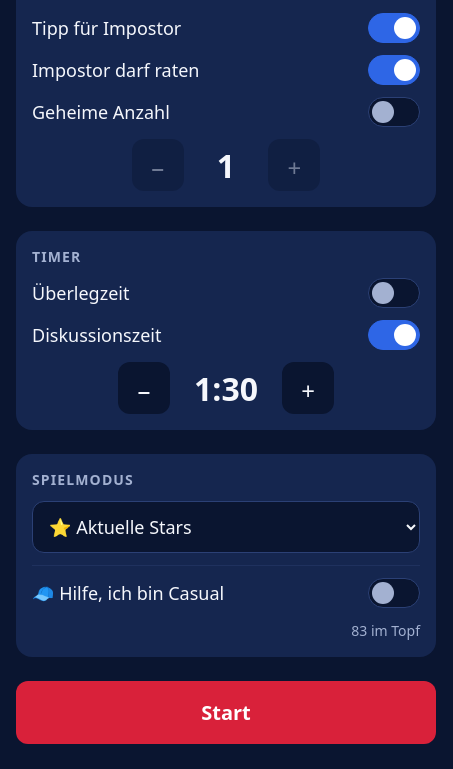
Test: SetupScreen › springt bei einem krummen gespeicherten Wert auf die nächste Stufe
(page scrolled)
Click the button named "Mehr Zeit". click: [308, 388]
box: [282,362,334,414]
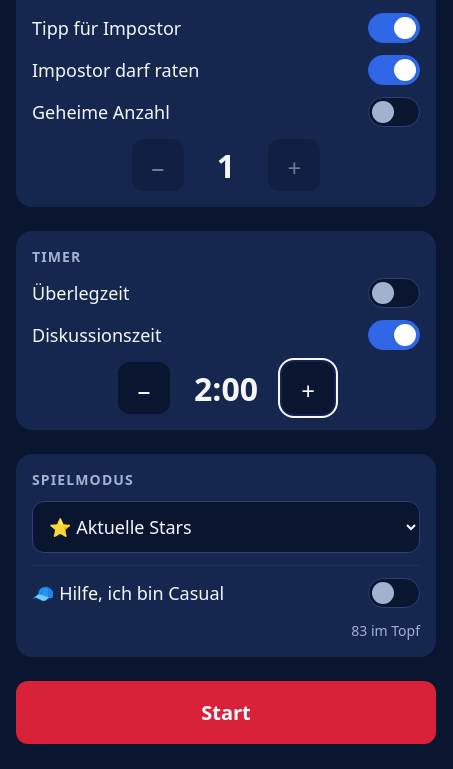
Now the text named "Dauer Diskussion" reads "2:00", box [194,366,258,410]
Click the button named "Weniger Zeit". click: [144, 388]
box: [118,362,170,414]
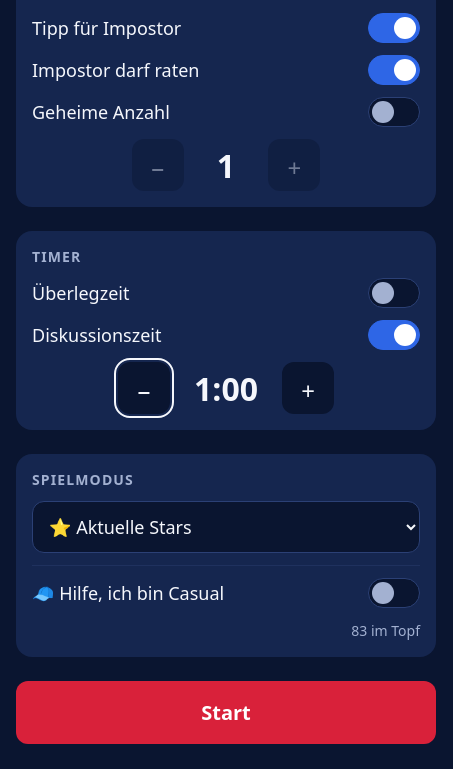
Click the button named "Weniger Zeit". click: [144, 388]
box: [118,362,170,414]
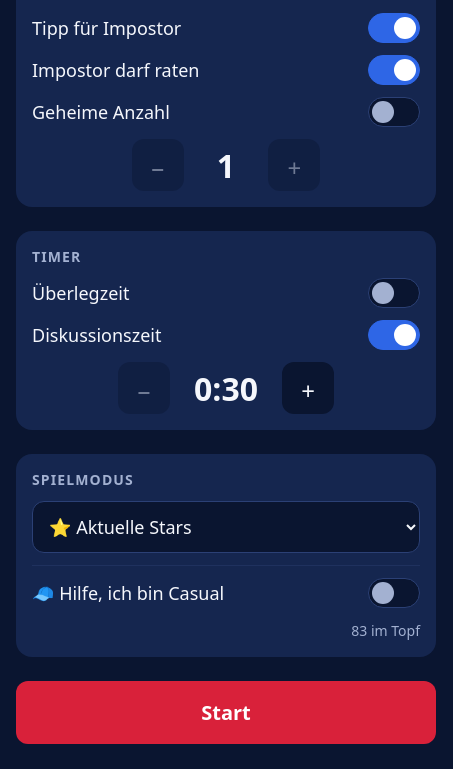
Now the text named "Dauer Diskussion" reads "0:30", box [194,366,258,410]
